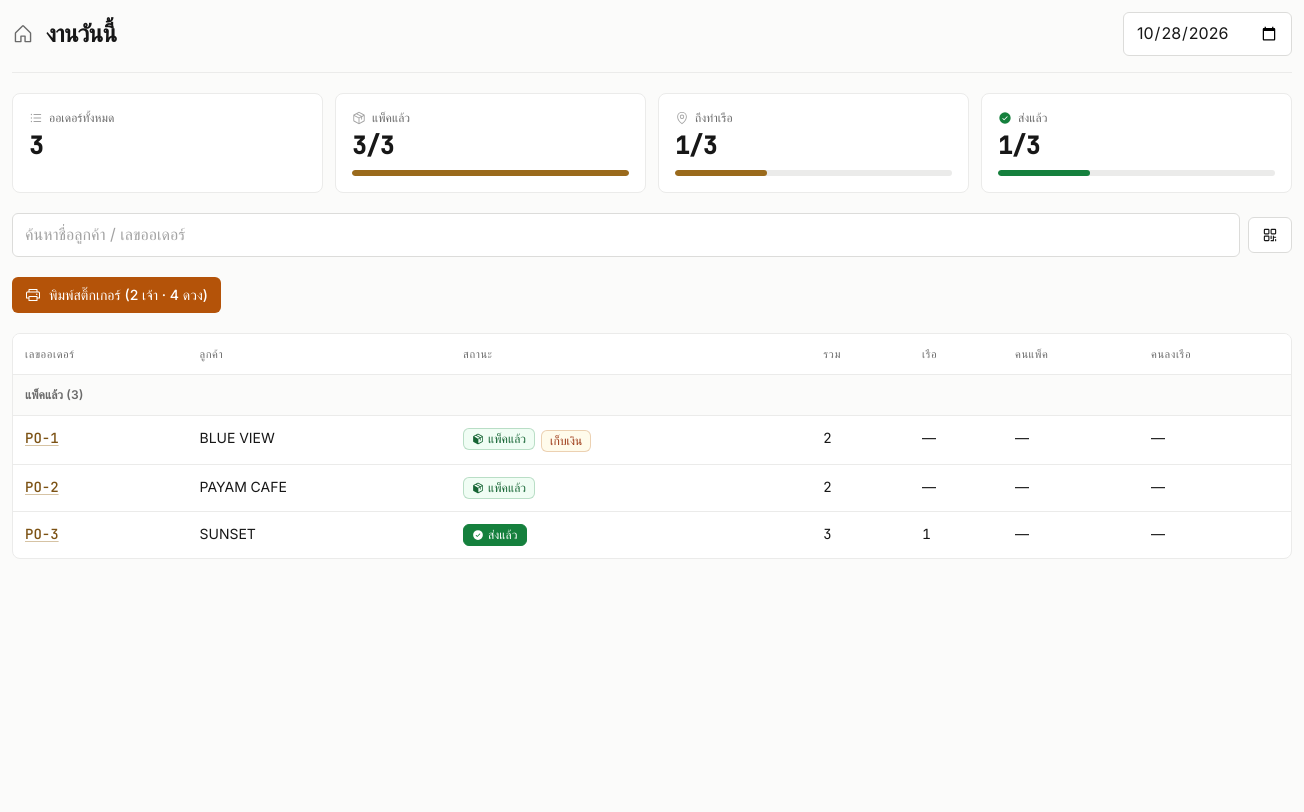
Scenario: search filters rows client-side by customer name
Expected: the text "BLUE VIEW" is shown, [188,416,451,464]
Type "BLUE" into the field with placeholder "ค้นหาชื่อลูกค้า / เลขออเดอร์" at (626, 235), box [12,213,1240,257]
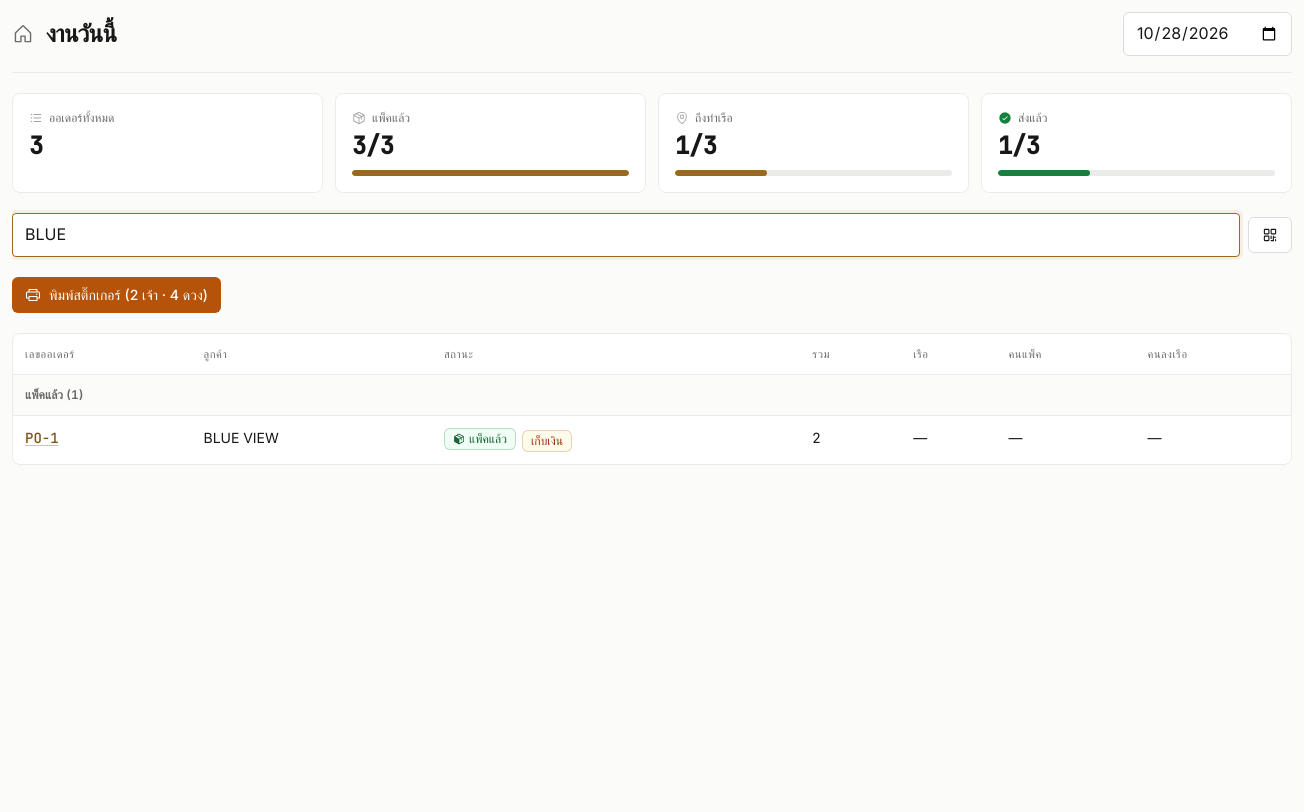
Expected: the text "BLUE VIEW" is shown, [192,416,432,464]
Expected: the text "PAYAM CAFE" is gone
Expected: the text "SUNSET" is gone
